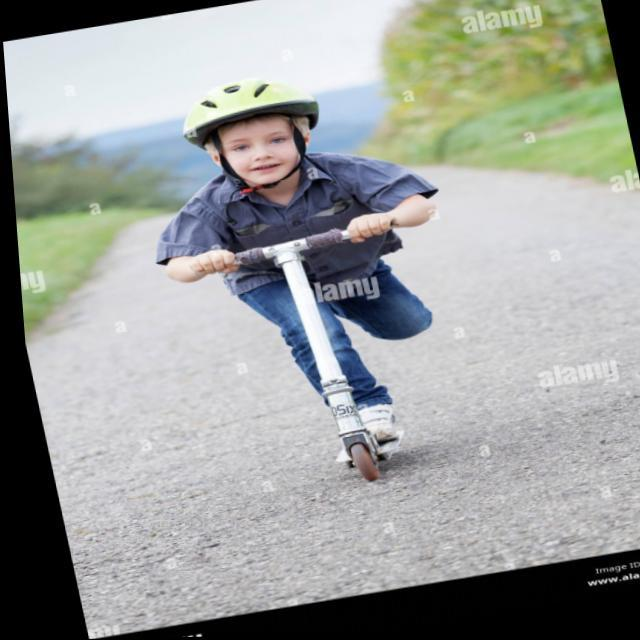Helmet: (180, 76, 321, 191)
